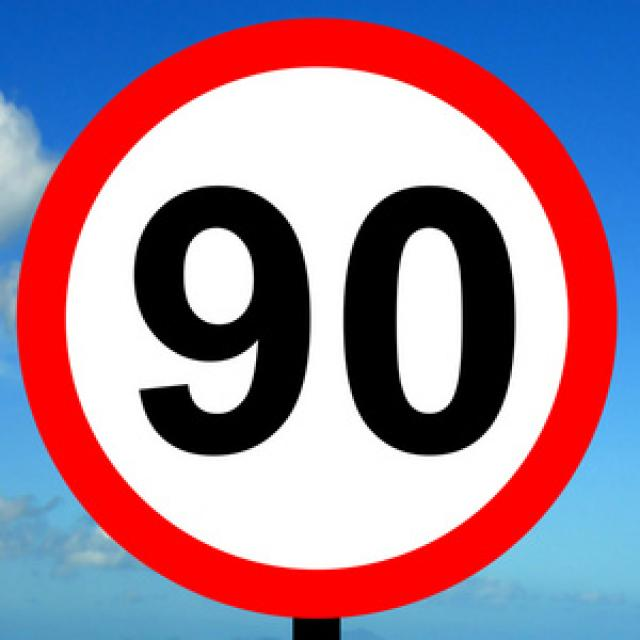speed limit 90: (21, 16, 618, 620)
